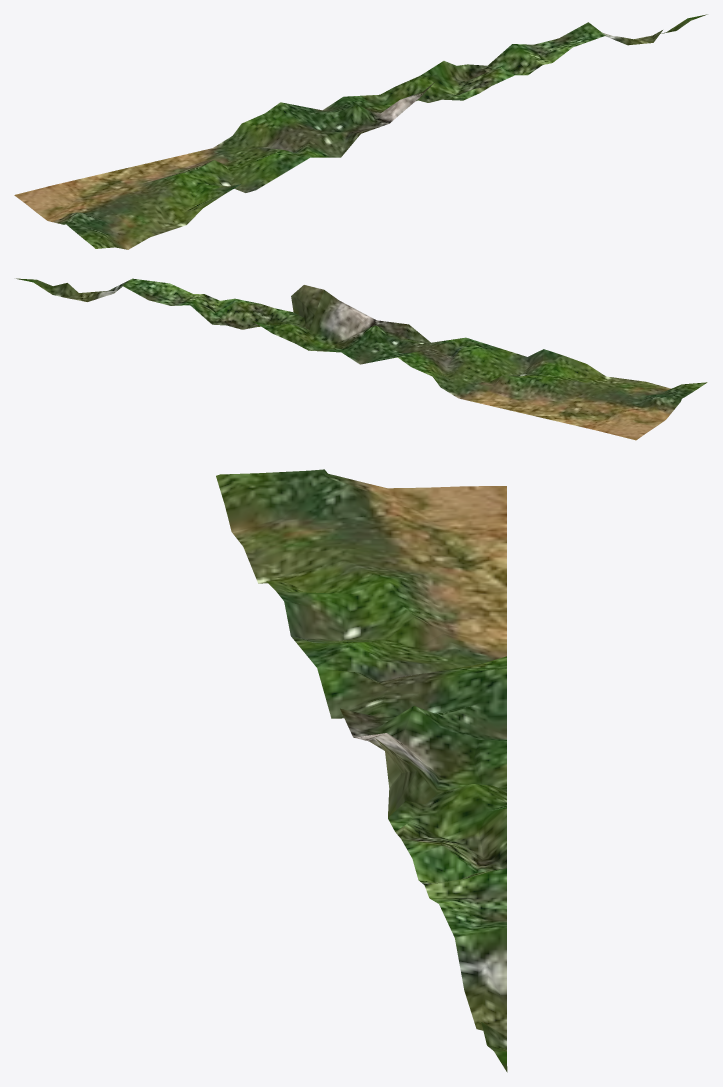
The model's file is Tile_+001_+000_L21_0001130t1.glb.
3 views of the same model, one above another, from view 1: azimuth 30°, elevation 25°; view 2: azimuth 150°, elevation 25°; view 3: azimuth 270°, elevation 25° (orthographic). The views are drawn at different scales.
Parts seen in each view (by area): view 1: rtc; view 2: rtc; view 3: rtc.
Part boxes in pixels (left/top/right/bottom): rtc: left=14, top=14, right=707, bottom=249; rtc: left=16, top=278, right=707, bottom=440; rtc: left=216, top=469, right=507, bottom=1072.
Size of the model in its own units: 12.37 by 0.9821 by 2.51.
1 material, 1 textured.
